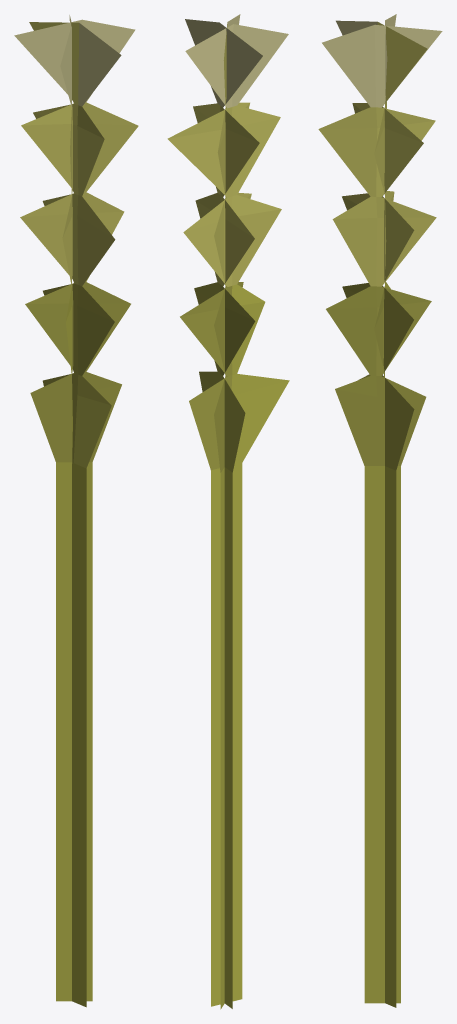
Rendered from Corn_03.glb.
3 views of the same model, side by side, from view 1: azimuth 90°, elevation 25°; view 2: azimuth 210°, elevation 25°; view 3: azimuth 270°, elevation 25° (orthographic).
Parts seen in each view (by area): view 1: Corn 3; view 2: Corn 3; view 3: Corn 3.
Boxes of the visible parts, bbox=[...] form: Corn 3: bbox=[14, 15, 138, 1007]; Corn 3: bbox=[167, 14, 289, 1009]; Corn 3: bbox=[318, 14, 442, 1007].
Size of the model in its own units: 0.2396 by 1.9 by 0.2188.
